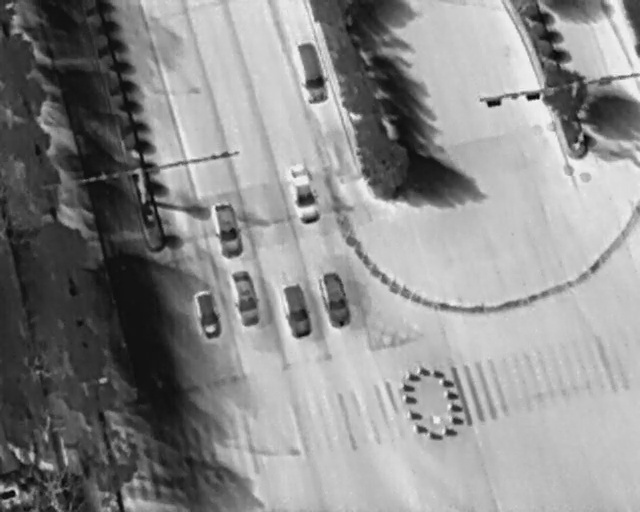Car: (289, 39, 332, 108), (281, 160, 323, 226), (314, 268, 355, 330), (209, 199, 247, 261), (277, 281, 315, 341), (228, 268, 263, 329), (192, 288, 224, 341)
